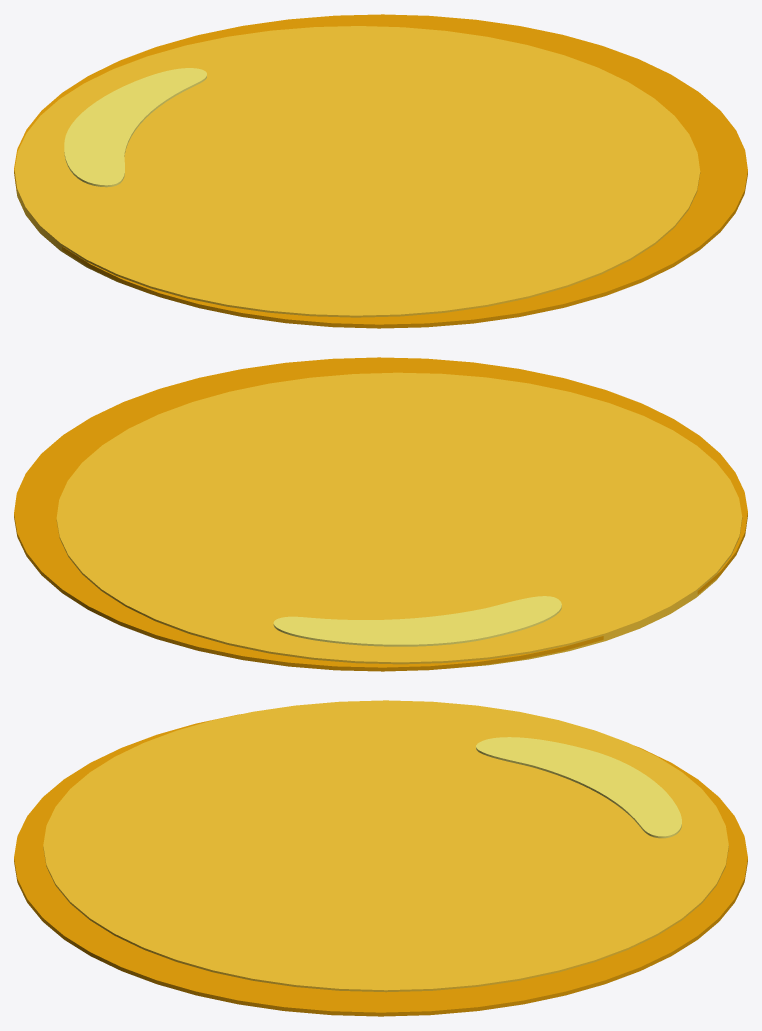
The model's file is emoji_u1f7e1.glb.
3 views of the same model, one above another, from view 1: azimuth 30°, elevation 25°; view 2: azimuth 150°, elevation 25°; view 3: azimuth 270°, elevation 25° (orthographic).
Parts seen in each view (by area): view 1: emoji_u1f7e1; view 2: emoji_u1f7e1; view 3: emoji_u1f7e1.
Boxes of the visible parts, x1,y1,x2,y2 form: emoji_u1f7e1: (14,14,747,328); emoji_u1f7e1: (14,357,747,671); emoji_u1f7e1: (14,700,747,1016).
Size of the model in its own units: 0.0339 by 0.0006 by 0.0339.
